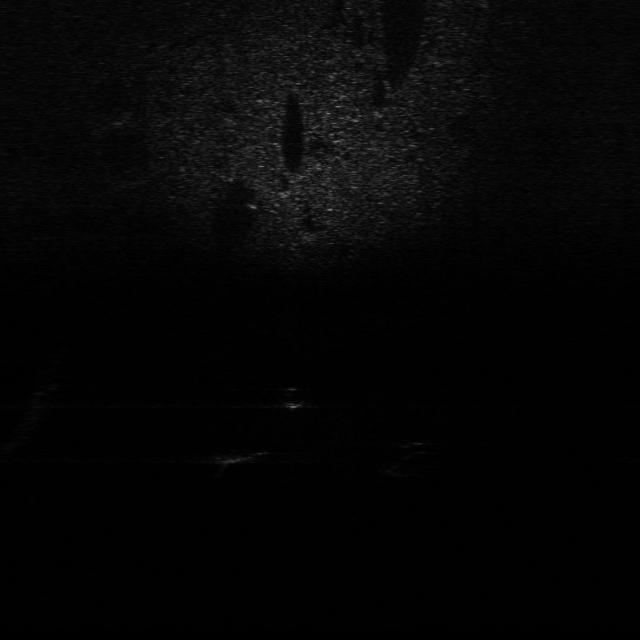ball: (277, 386, 313, 410)
square cage: (206, 444, 270, 466)
tyre: (370, 435, 450, 481)
